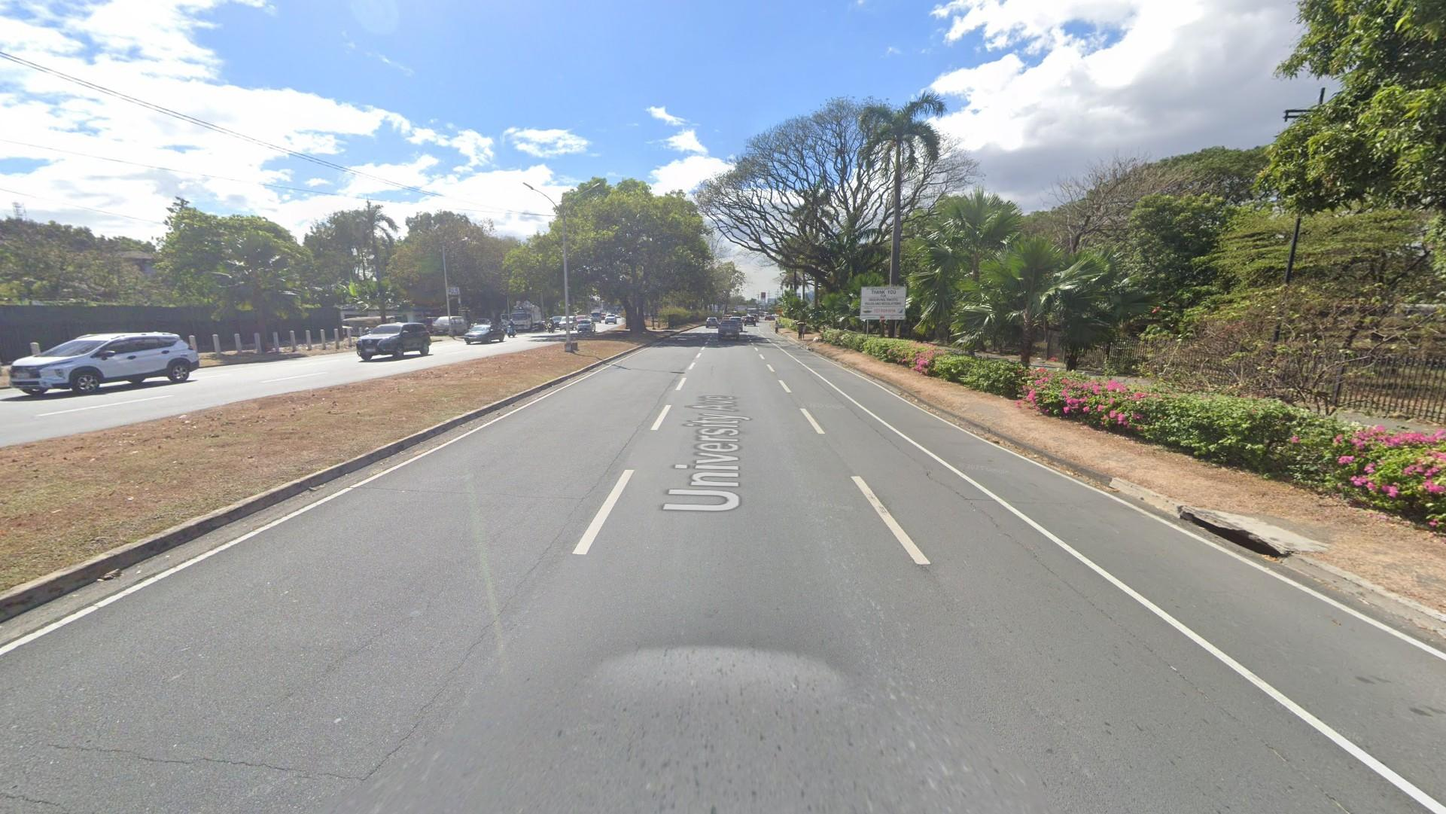pedestrian: (797, 323, 802, 340), (801, 324, 806, 340), (774, 320, 779, 334)
